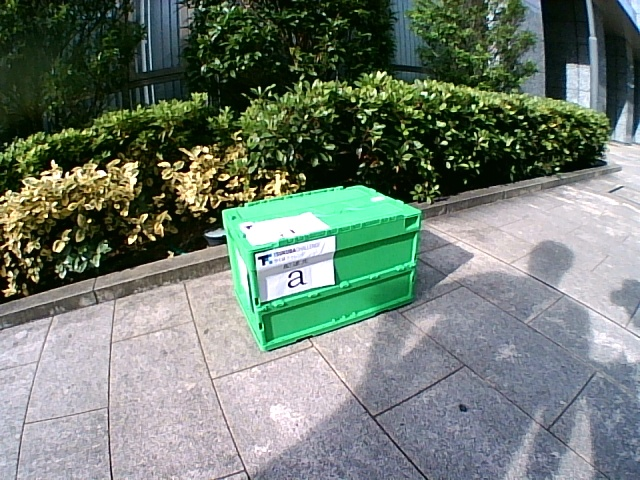blue_box: (220, 185, 423, 351)
tag: (259, 219, 308, 238)
tag_b: (257, 255, 334, 287)
